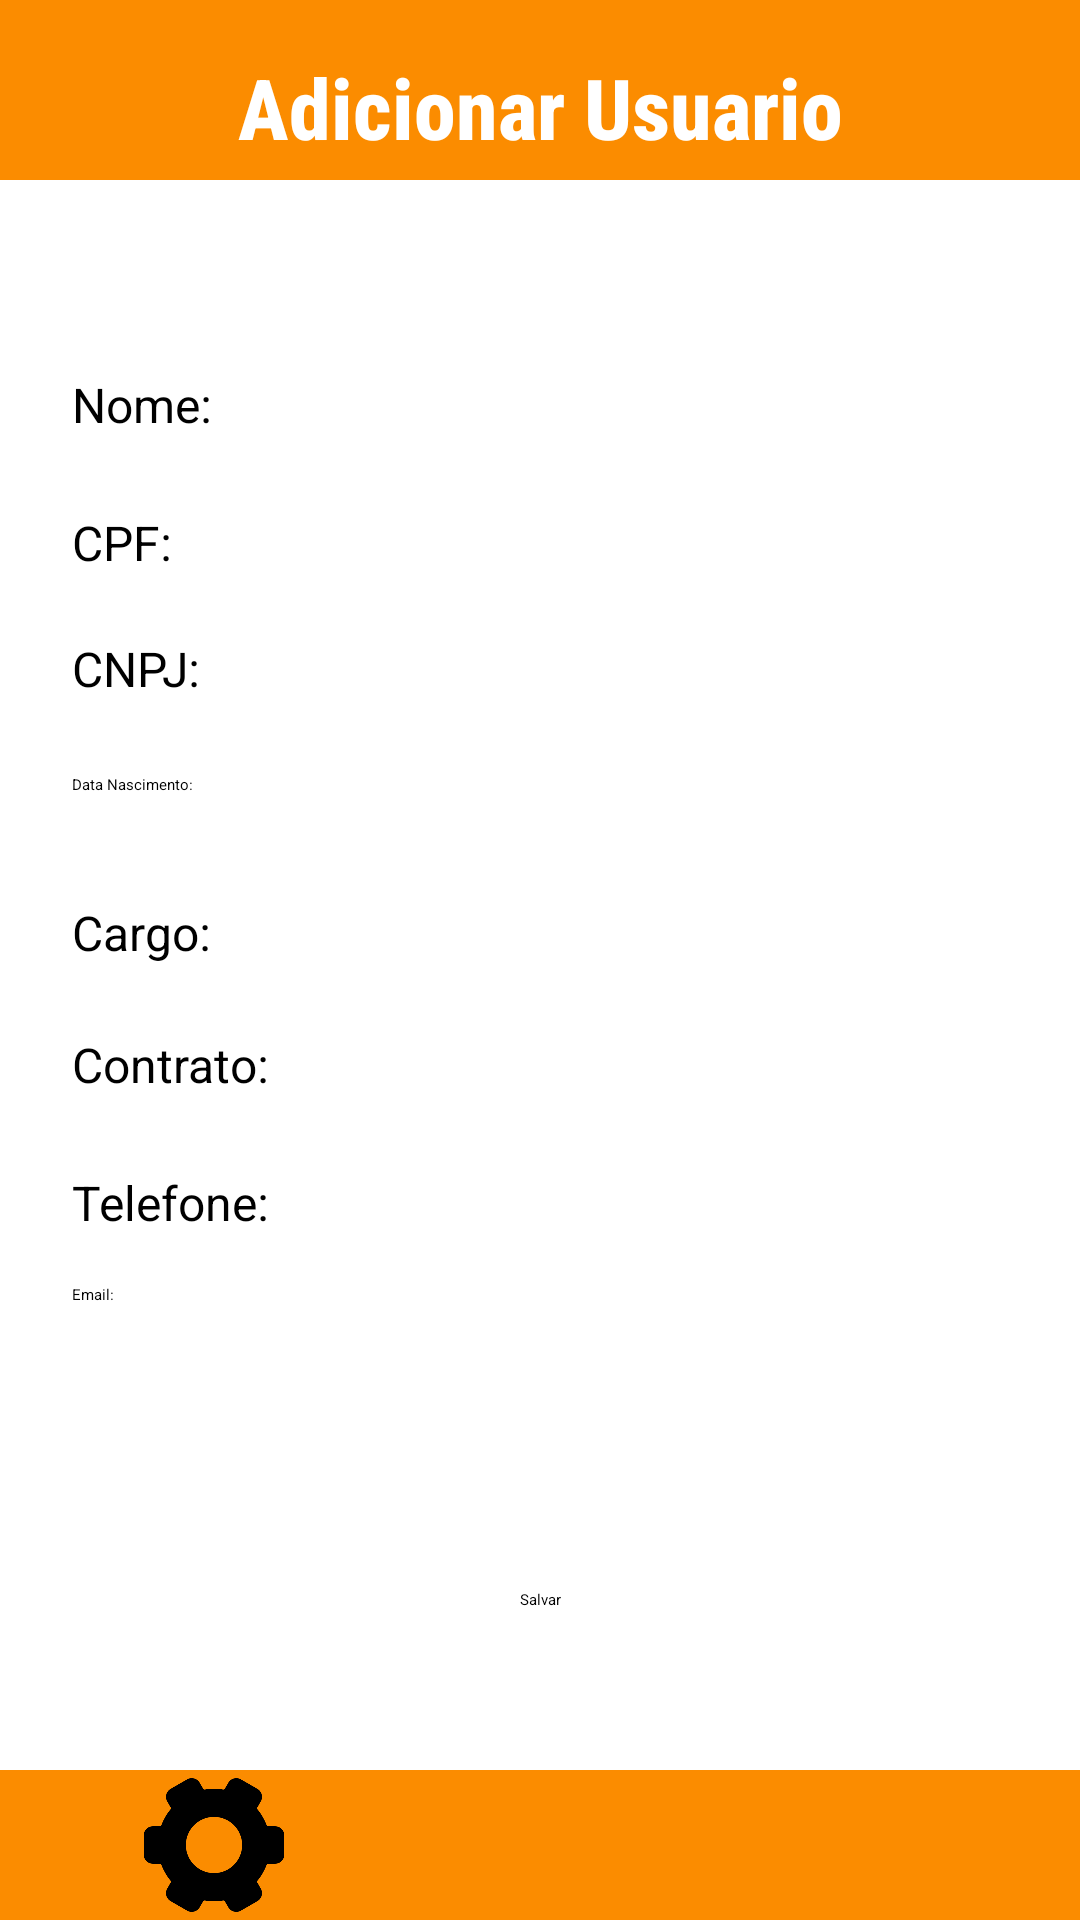

Screen size 1080×1920. Icon name, then its center in pixels as [x,y]:
config: [214,1845]
